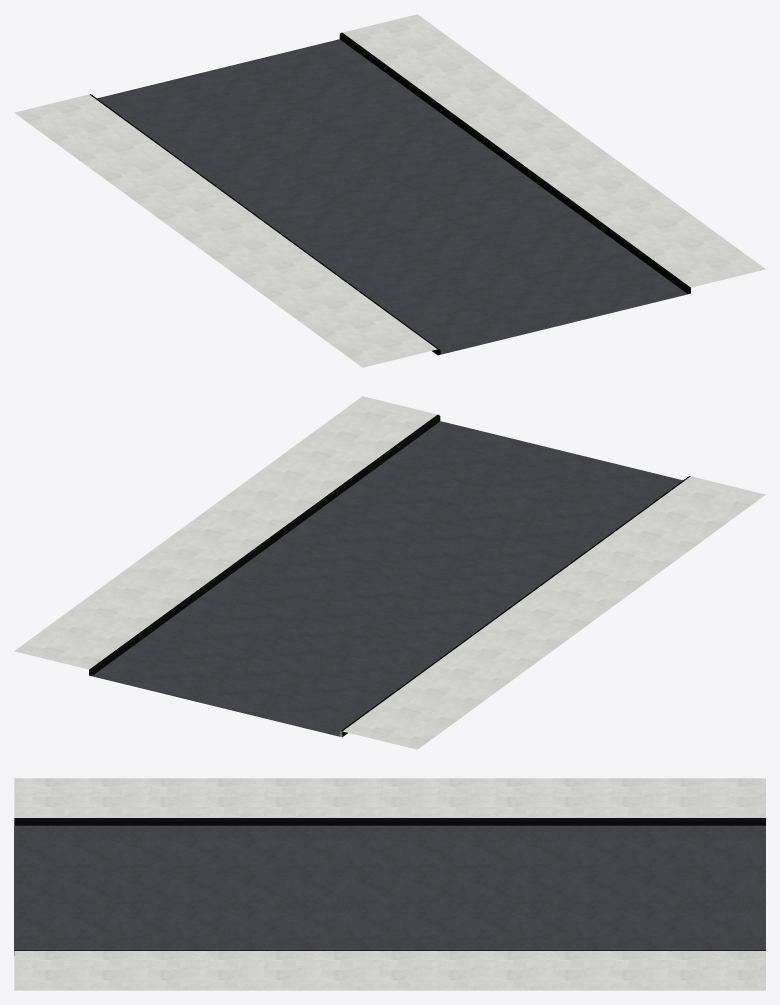
File: calle 2 carril y estacionamiento.fbx
3 renders of one model, top to bottom at view 1: azimuth 30°, elevation 25°; view 2: azimuth 150°, elevation 25°; view 3: azimuth 270°, elevation 25°, orthographic. The views are drawn at different scales.
Visible parts, largest first — view 1: Callle 1 carril con un lugar para estacionar.011; view 2: Callle 1 carril con un lugar para estacionar.011; view 3: Callle 1 carril con un lugar para estacionar.011.
Boxes of the visible parts, x1=… form: Callle 1 carril con un lugar para estacionar.011: x1=14, y1=14, x2=765, y2=367; Callle 1 carril con un lugar para estacionar.011: x1=14, y1=396, x2=765, y2=749; Callle 1 carril con un lugar para estacionar.011: x1=14, y1=778, x2=765, y2=990.
Size of the model in its own units: 1337 by 18.89 by 2000.
3 materials, 3 textured.
